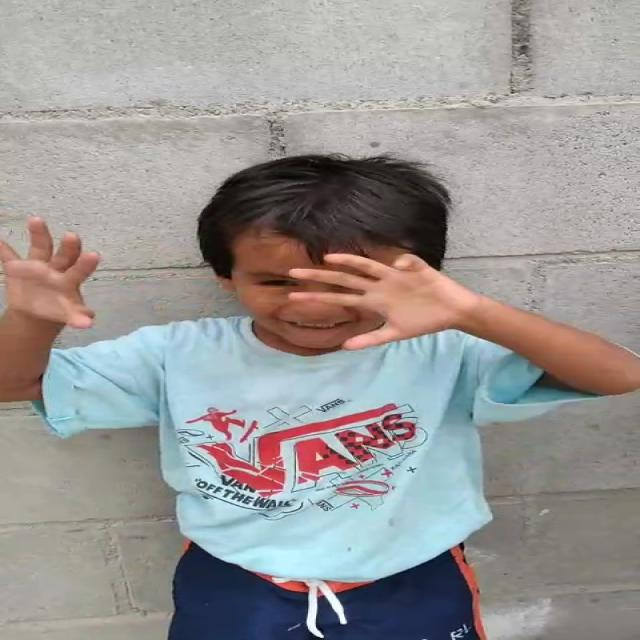7_mano_rostro: (289, 252, 448, 348)
